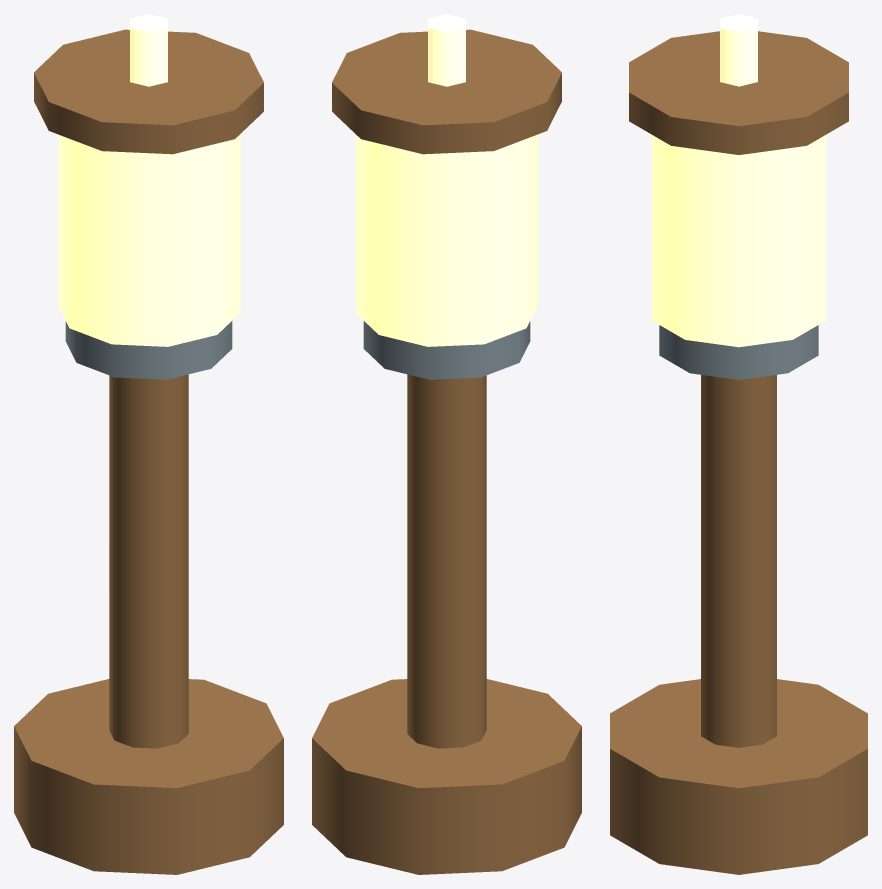
The model's file is quay-lantern.lod1.glb.
3 renders of one model, left to right at view 1: azimuth 30°, elevation 25°; view 2: azimuth 150°, elevation 25°; view 3: azimuth 270°, elevation 25°, orthographic.
Visible parts, largest first — view 1: structure, glow; view 2: structure, glow; view 3: structure, glow.
Part boxes in pixels (x1=…): structure: x1=14, y1=14, x2=283, y2=874; glow: x1=57, y1=134, x2=240, y2=346; structure: x1=312, y1=14, x2=581, y2=874; glow: x1=355, y1=134, x2=538, y2=346; structure: x1=610, y1=14, x2=867, y2=874; glow: x1=652, y1=135, x2=825, y2=347.
Size of the model in its own units: 0.68 by 2.2 by 0.6467.
